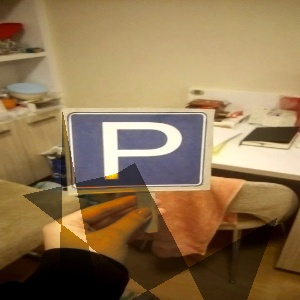park: (69, 114, 203, 184)
